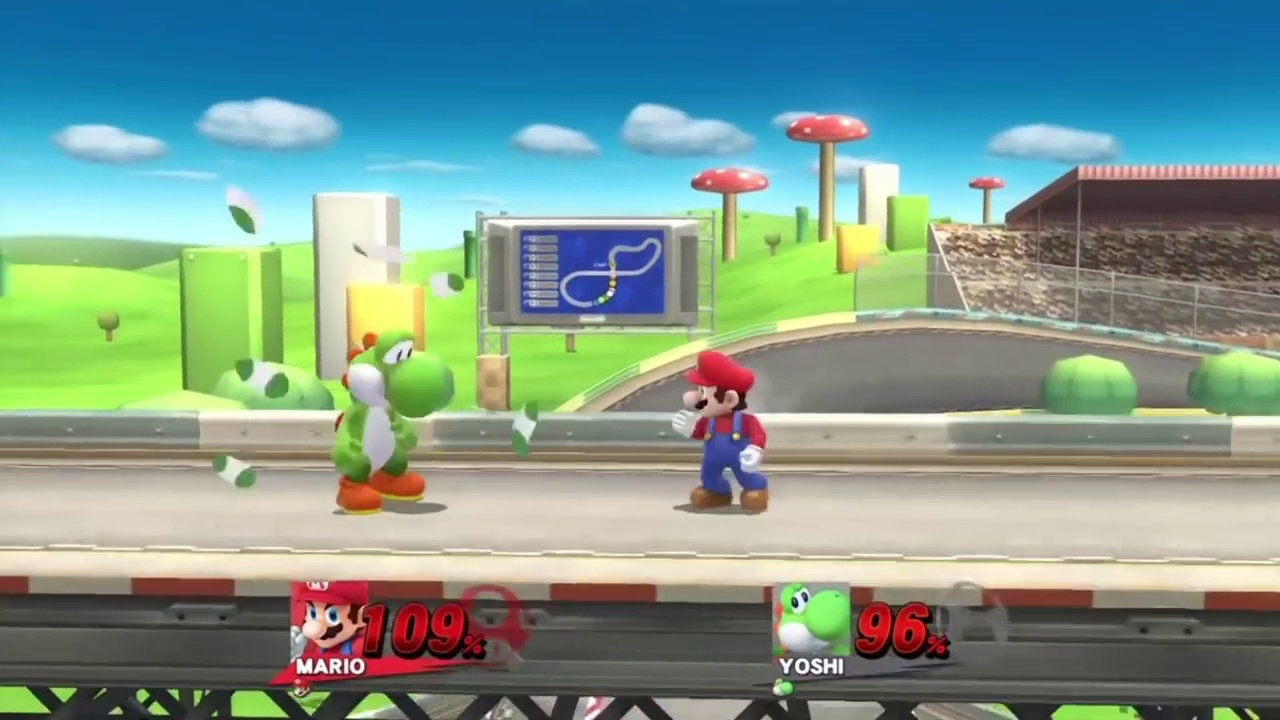Mario: (672, 350, 770, 516)
